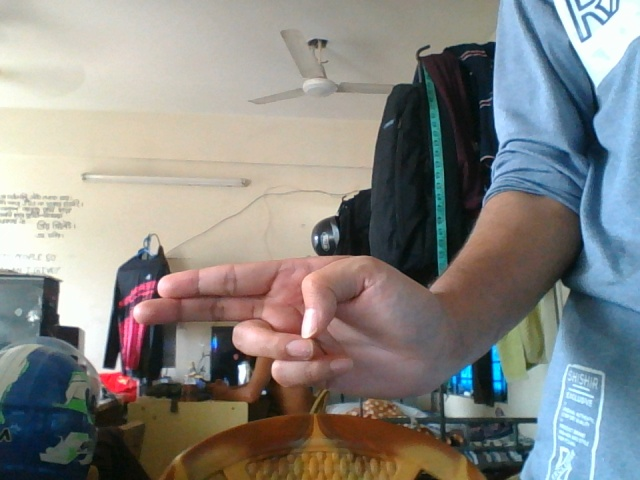ha: (117, 248, 542, 395)
